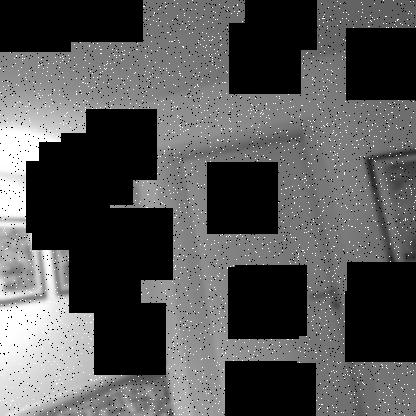Porte: (149, 112, 382, 416)
